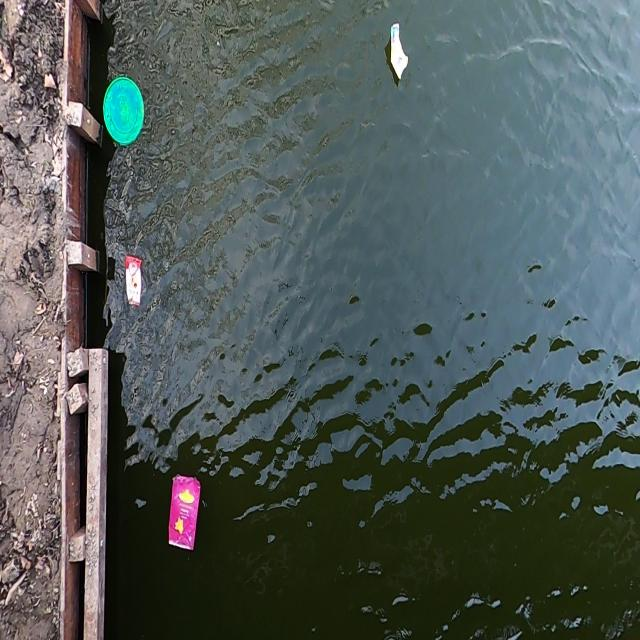Autre plastique: (100, 71, 146, 150), (165, 470, 203, 559), (386, 18, 412, 86), (118, 253, 146, 315)
